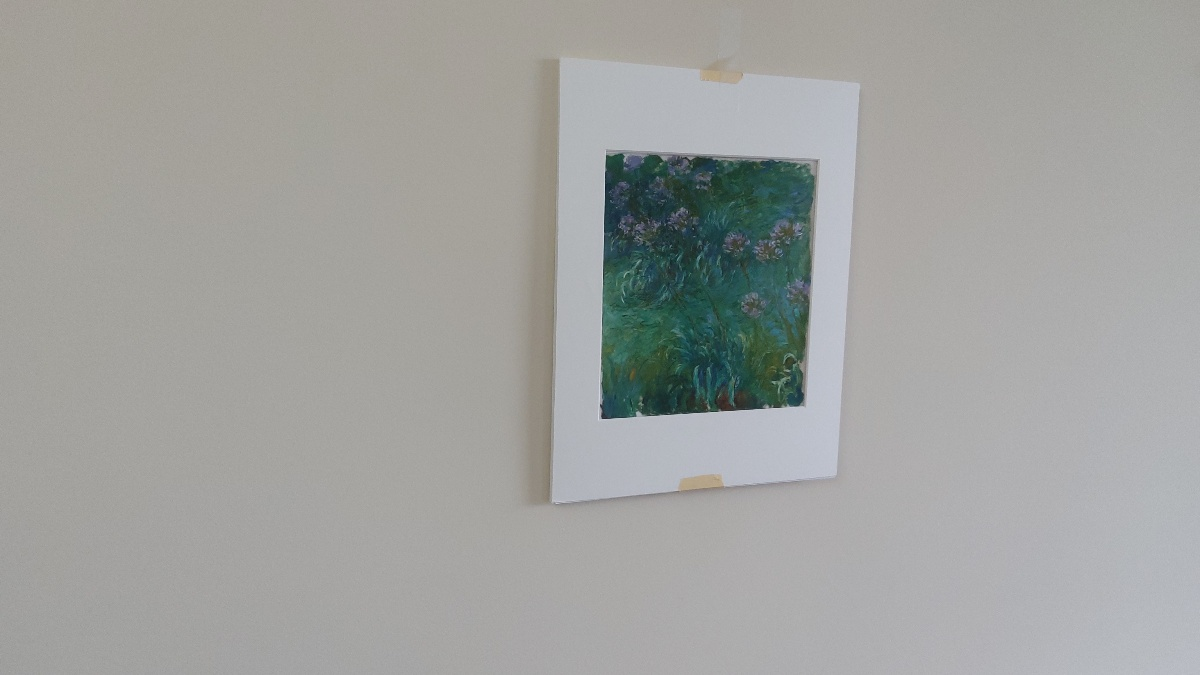painting: (598, 140, 816, 433)
